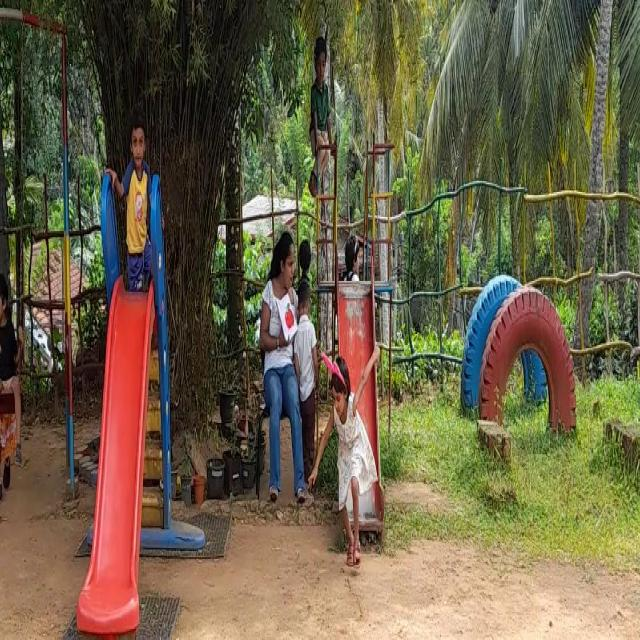adult: (258, 236, 302, 495)
child: (325, 332, 380, 580), (118, 90, 152, 292), (305, 19, 338, 200), (0, 264, 15, 454)
